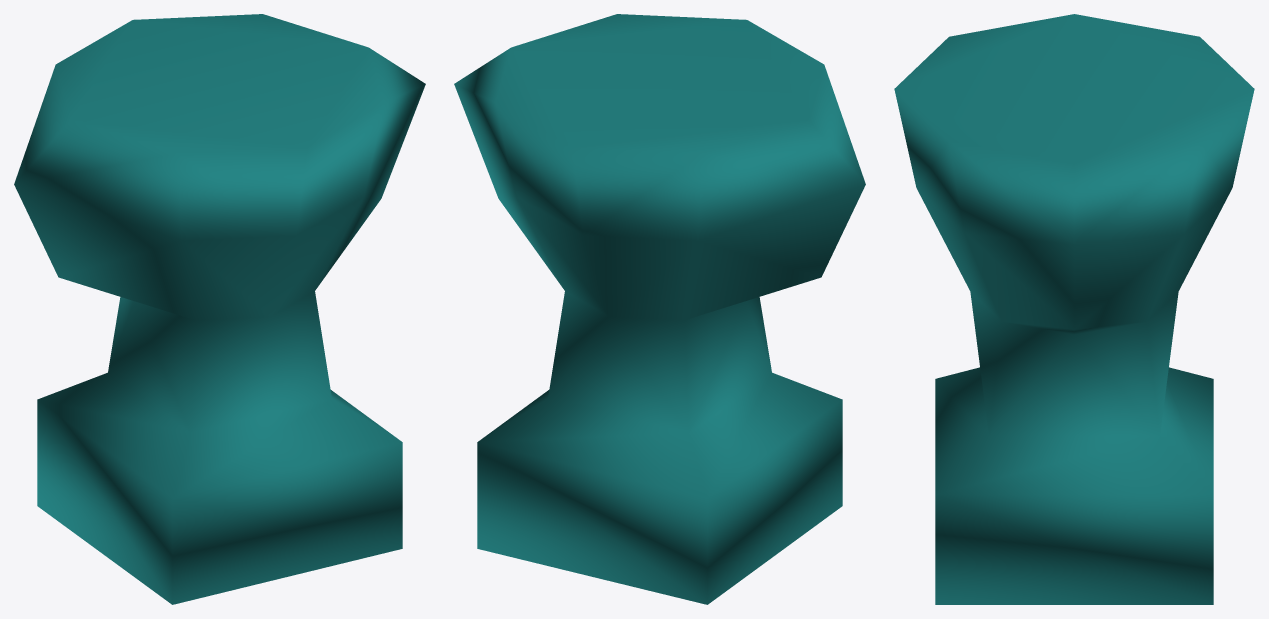
Rendered from champion_cup_collider.fbx.
3 renders of one model, left to right at view 1: azimuth 30°, elevation 25°; view 2: azimuth 150°, elevation 25°; view 3: azimuth 270°, elevation 25°, orthographic. The views are drawn at different scales.
Parts seen in each view (by area): view 1: champion_cup_collider; view 2: champion_cup_collider; view 3: champion_cup_collider.
Boxes of the visible parts, box(x1,y1,x2,y2) form: champion_cup_collider: box(14, 14, 425, 604); champion_cup_collider: box(454, 14, 865, 604); champion_cup_collider: box(894, 14, 1254, 604).
Bounding box in the file's own units: 22.14 × 22.8 × 16.25.
